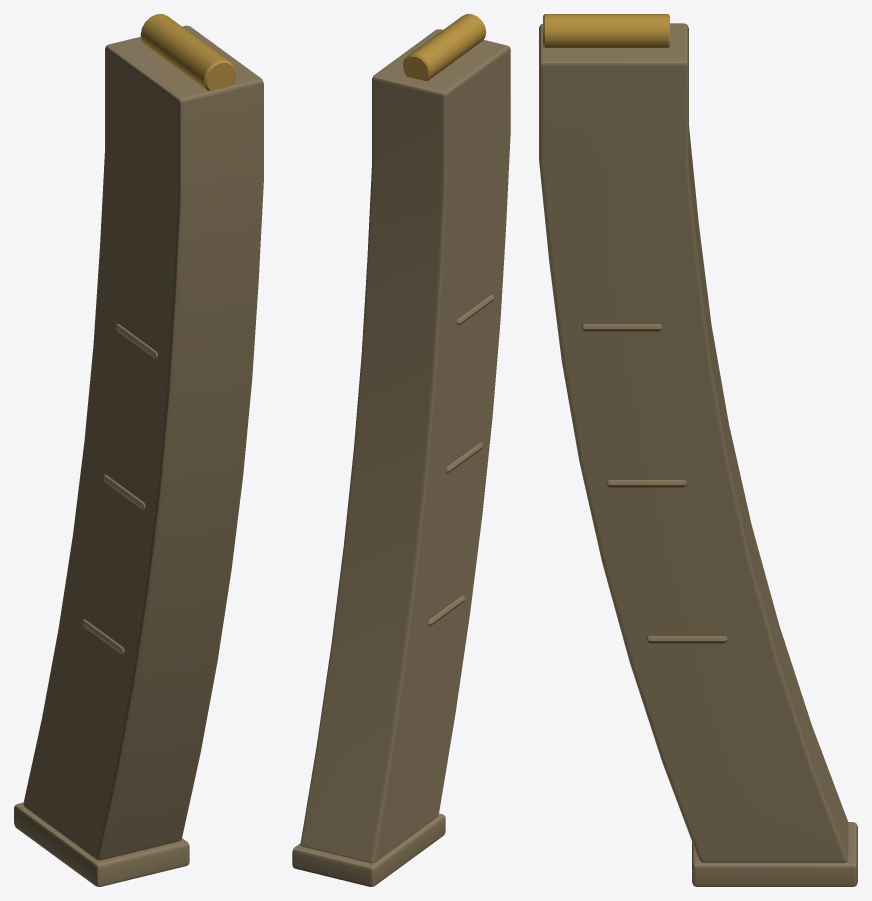
File: mod_lark_extended_mag.glb
3 views of the same model, side by side, from view 1: azimuth 30°, elevation 25°; view 2: azimuth 150°, elevation 25°; view 3: azimuth 270°, elevation 25° (orthographic). The views are drawn at different scales.
Visible parts, largest first — view 1: Magazine, MagazineRound; view 2: Magazine, MagazineRound; view 3: Magazine, MagazineRound.
Boxes of the visible parts, box(x1,y1,x2,y2) form: Magazine: box(14, 25, 263, 886); MagazineRound: box(140, 14, 235, 90); Magazine: box(292, 29, 510, 886); MagazineRound: box(403, 14, 486, 80); Magazine: box(539, 23, 857, 886); MagazineRound: box(543, 14, 669, 47).
Bounding box in the file's own units: 0.0264 × 0.2332 × 0.0792.
